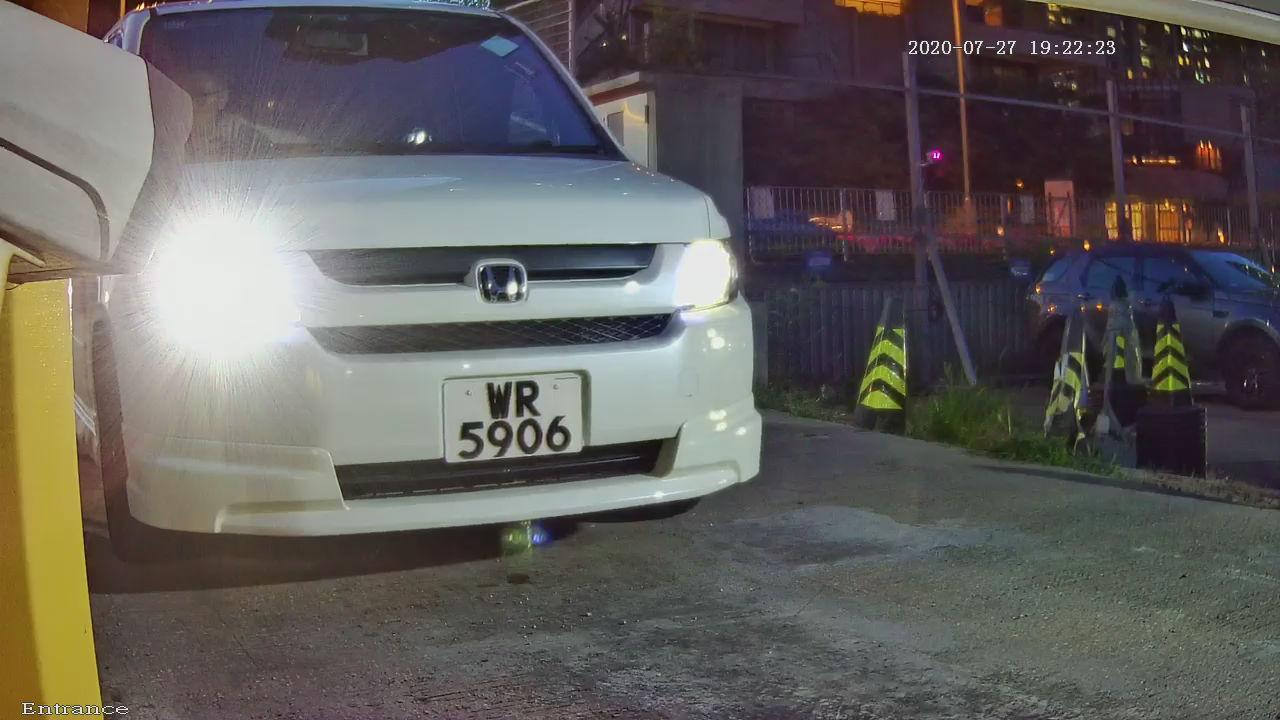privatecar: (63, 10, 801, 557)
